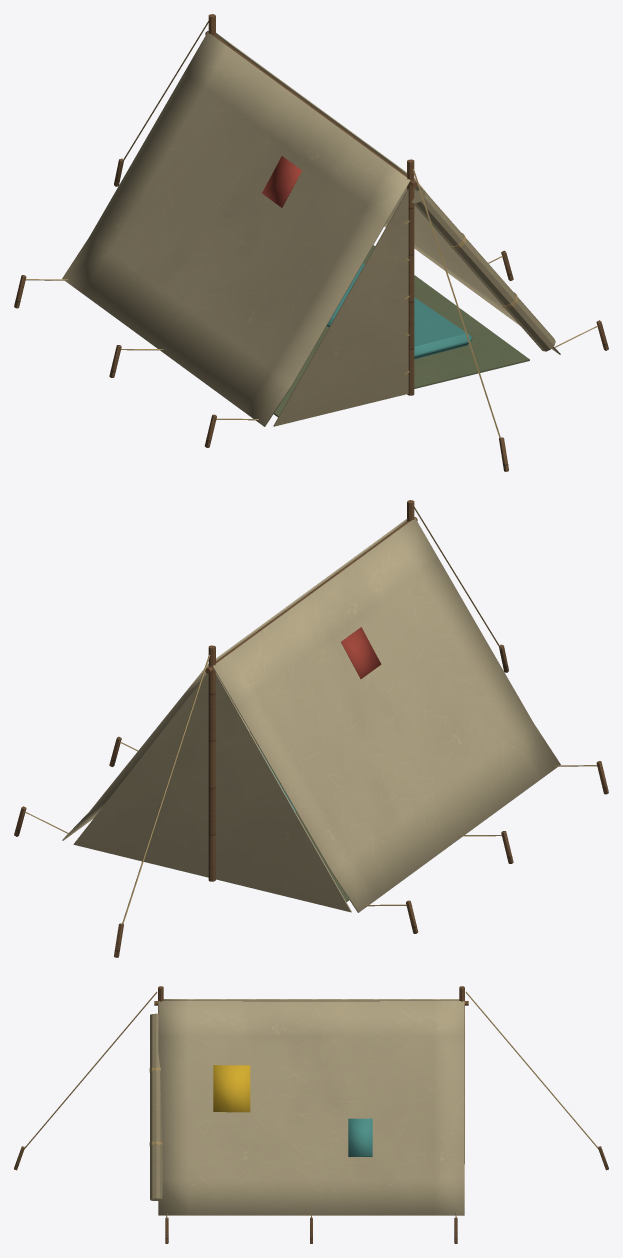
Rendered from tent_ridge.glb.
The picture shows the model from 3 angles, top to bottom: view 1: azimuth 30°, elevation 25°; view 2: azimuth 150°, elevation 25°; view 3: azimuth 270°, elevation 25°; orthographic projection. The views are drawn at different scales.
Parts seen in each view (by area): view 1: tent_ridge.001; view 2: tent_ridge.001; view 3: tent_ridge.001.
Part boxes in pixels (x1,y1,x2,y2): tent_ridge.001: (14, 14, 608, 471); tent_ridge.001: (14, 500, 608, 957); tent_ridge.001: (14, 986, 608, 1243).
Bounding box in the file's own units: 2.69 × 1.54 × 4.54.
9 materials, 9 textured.
